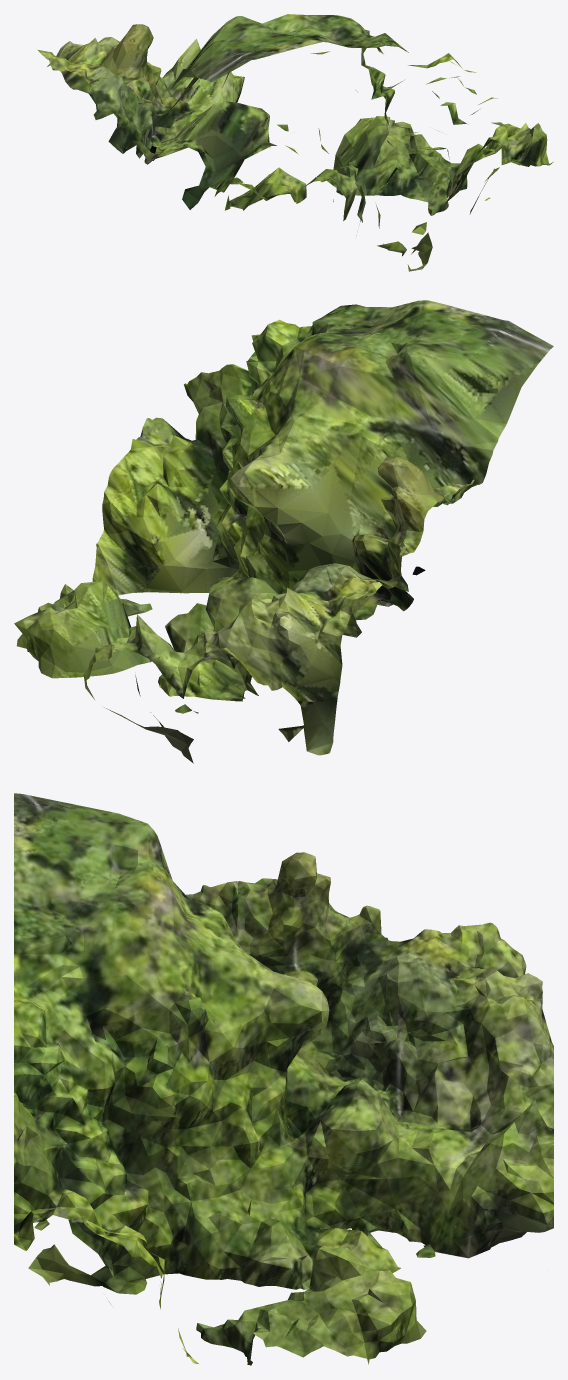
3 renders of one model, top to bottom at view 1: azimuth 30°, elevation 25°; view 2: azimuth 150°, elevation 25°; view 3: azimuth 270°, elevation 25°, orthographic. The views are drawn at different scales.
Size of the model in its own units: 26.11 by 19.35 by 26.11.
Materials: 5 (5 with a texture image).
